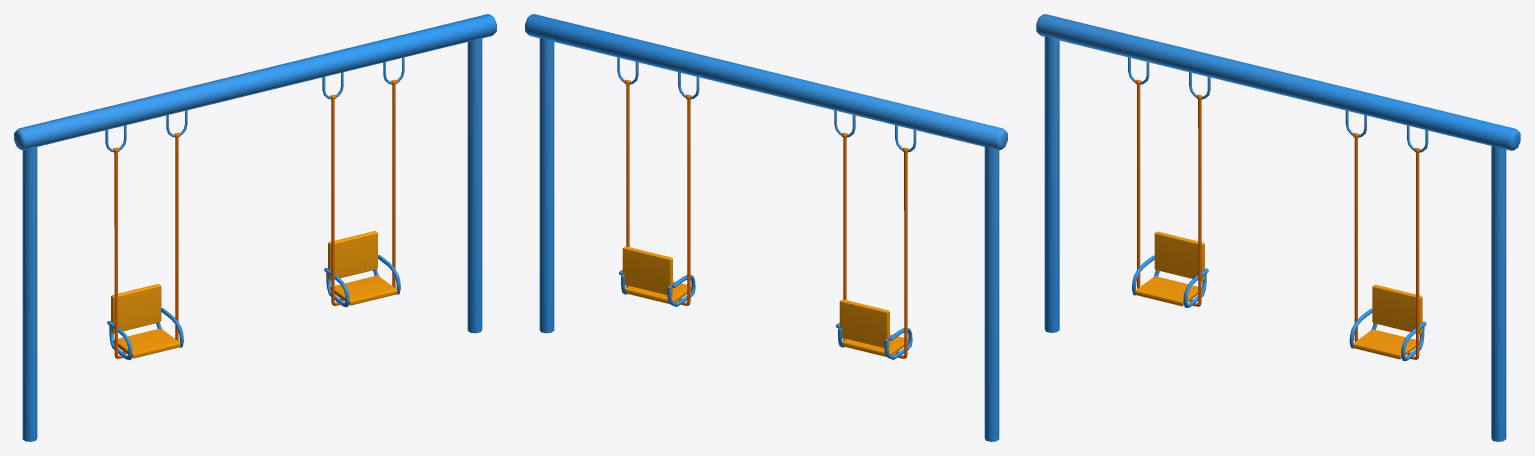
Rendered from Swing .fbx.
3 renders of one model, left to right at view 1: azimuth 30°, elevation 25°; view 2: azimuth 150°, elevation 25°; view 3: azimuth 330°, elevation 25°, orthographic.
Parts seen in each view (by area): view 1: base, swing.001; view 2: base, swing.001; view 3: base, swing.001.
Boxes of the visible parts, left/top/right/bottom form: base: left=14, top=14, right=496, bottom=441; swing.001: left=107, top=79, right=400, bottom=360; base: left=525, top=14, right=1007, bottom=441; swing.001: left=619, top=79, right=912, bottom=359; base: left=1036, top=14, right=1520, bottom=441; swing.001: left=1132, top=79, right=1426, bottom=361.
Size of the model in its own units: 715 by 447 by 62.24.
Materials: 1 (1 with a texture image).
